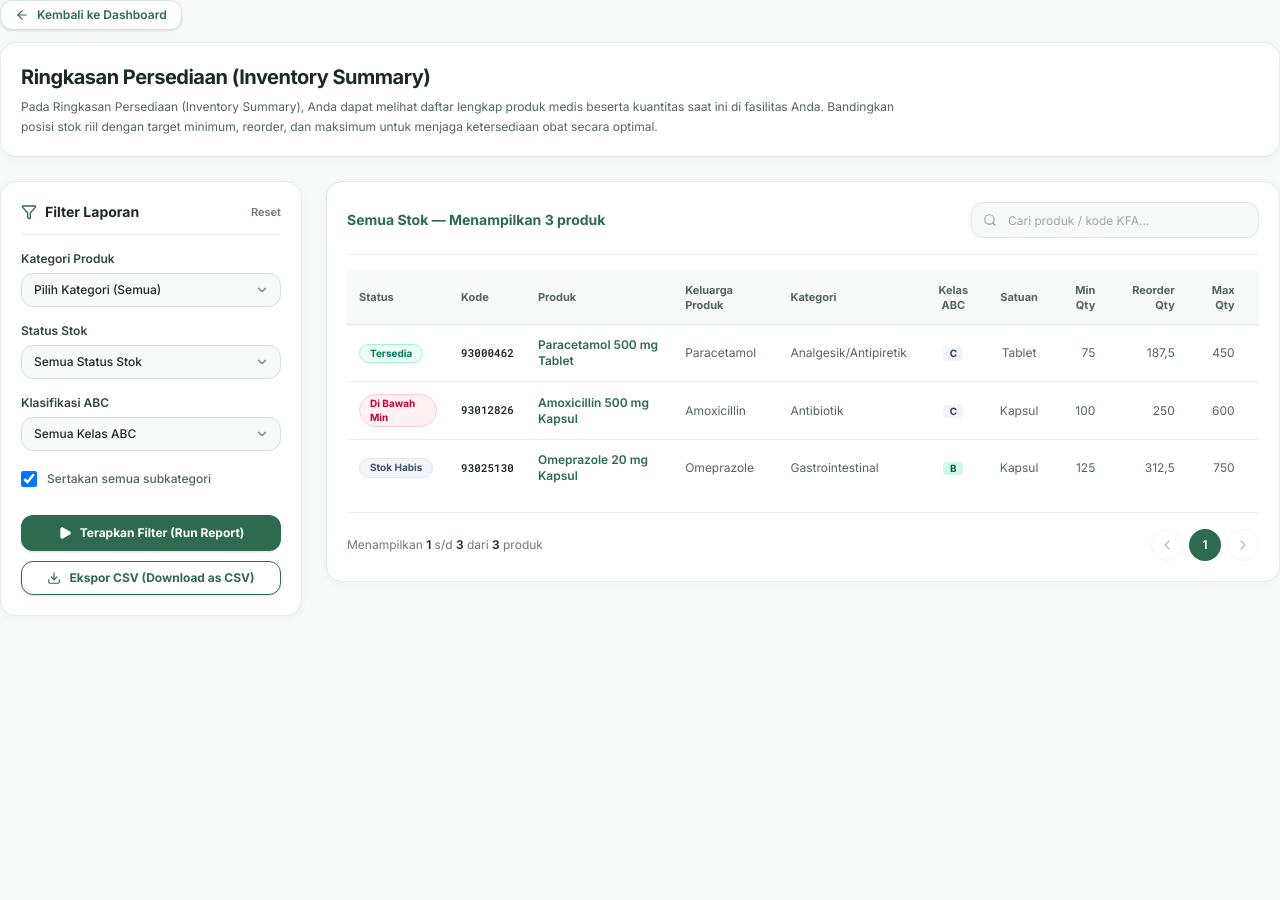
Test: InventorySummary Component › filters by status and category
The width and height of the screenshot is (1280, 900).
Expected: the link "Paracetamol 500 mg Tablet" is shown, [538,337,658,368]
# Select category
Select "Antibiotik" in the dropdown labelled "Kategori Produk" at coordinates (151, 290), box [21,273,281,307]
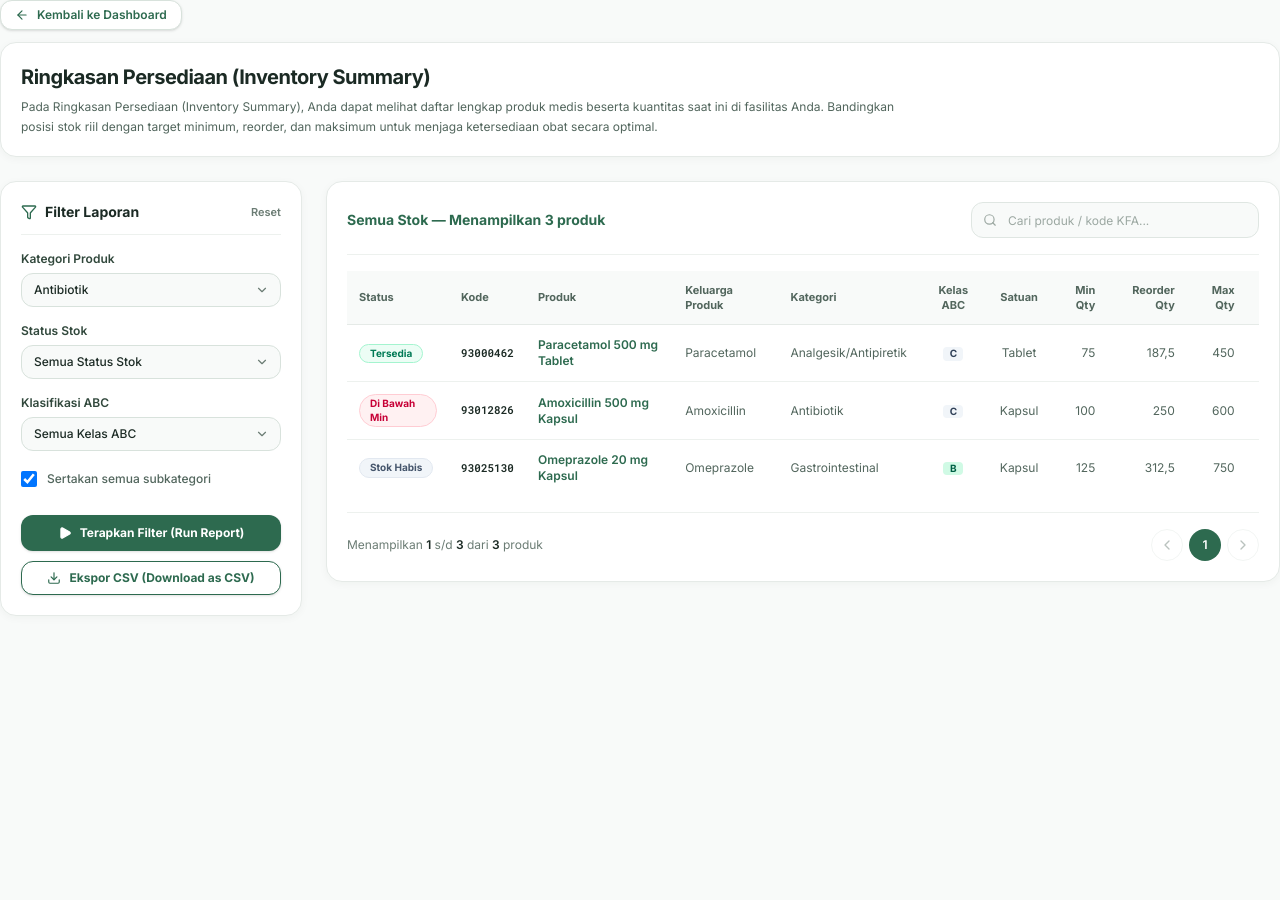
# Click Run Report
Click the button "Terapkan Filter (Run Report)" at coordinates (151, 533), box [21,515,281,551]
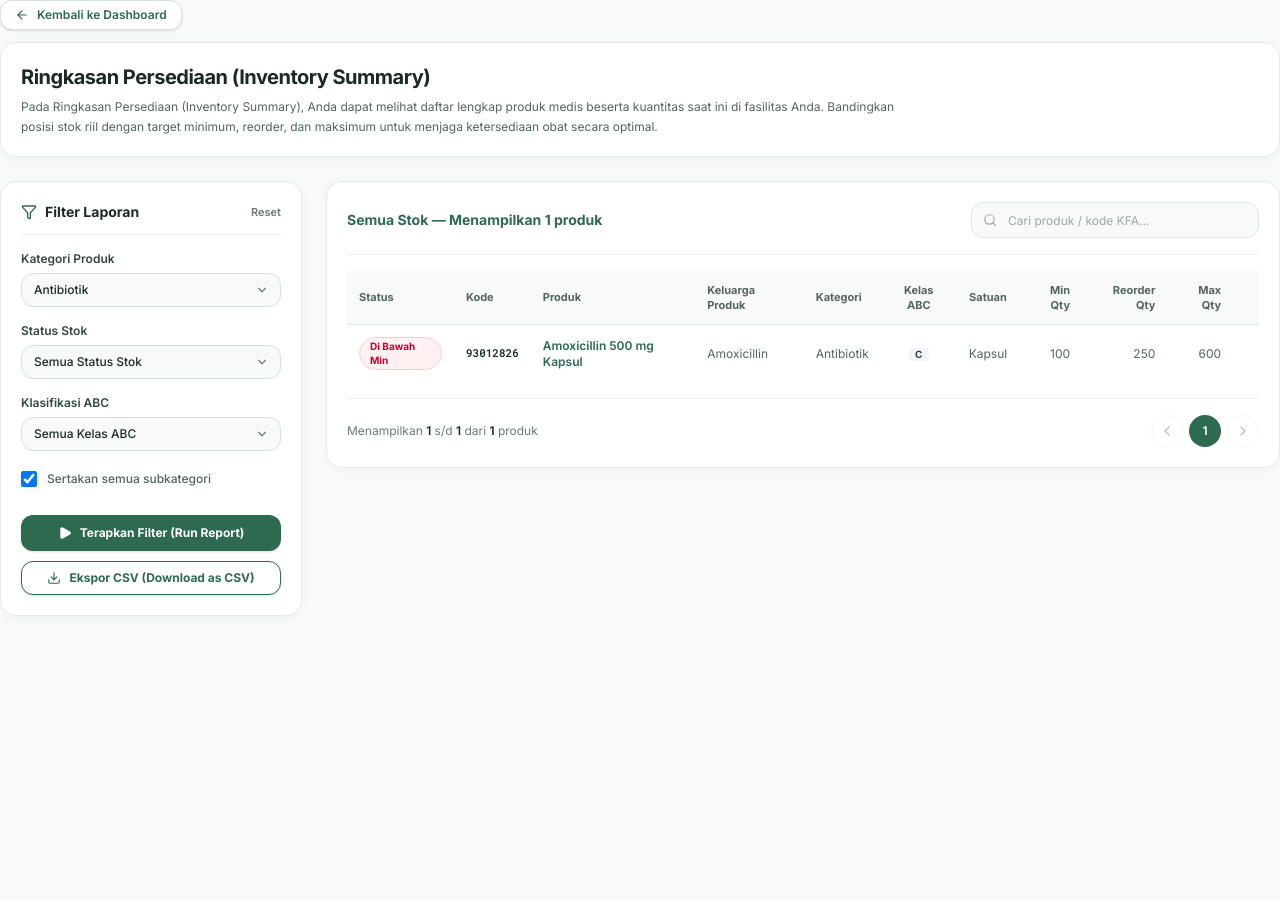
Expected: the link "Amoxicillin 500 mg Kapsul" is shown, [543,338,654,369]
Result: the link "Paracetamol 500 mg Tablet" is gone
